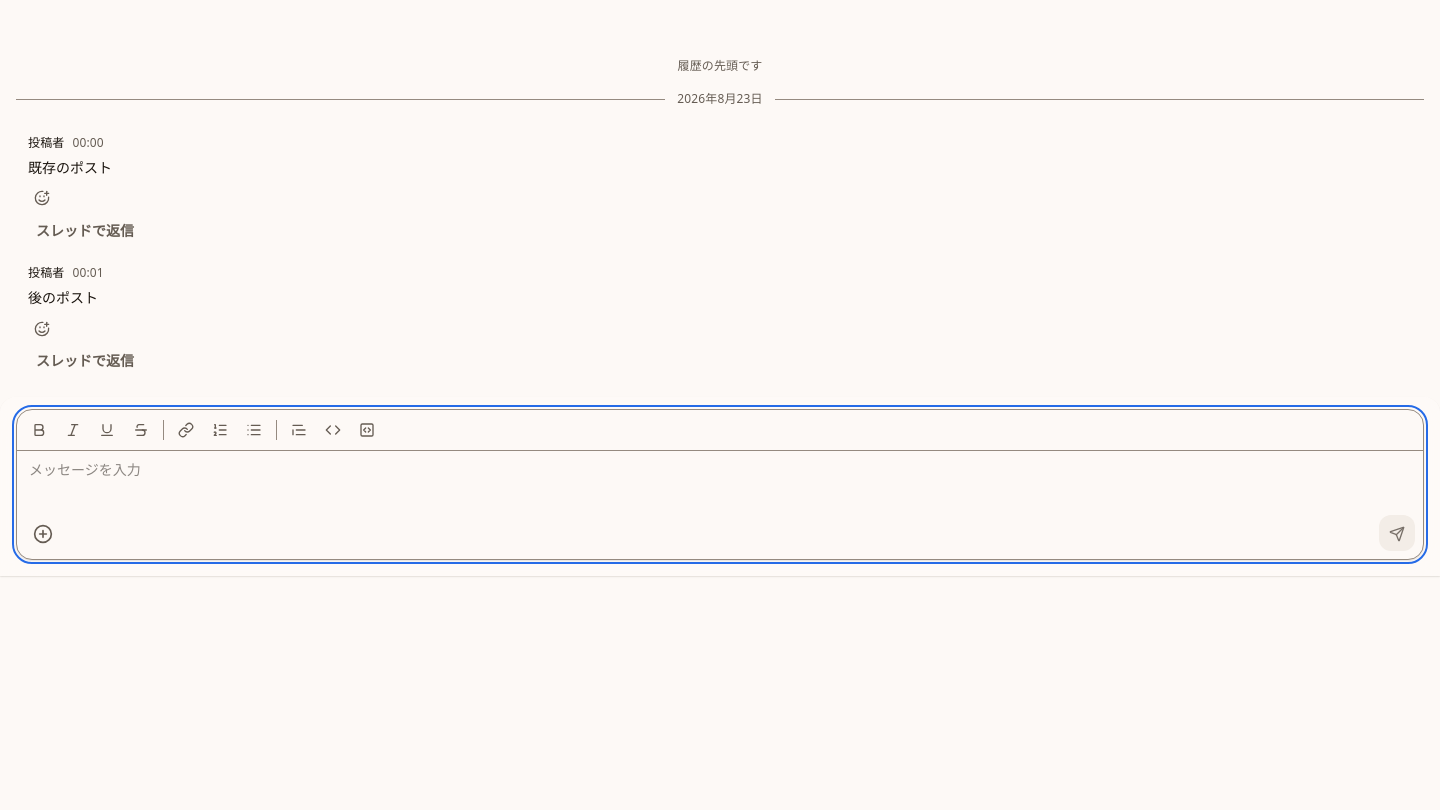
Test case: Timeline optimistic create › keeps the failed post in place with retry and discard
The image size is (1440, 810).
Expected: the text "既存のポスト" is shown, [28, 158, 112, 177]
In the text box with test id "composer-input": (720, 481) [17, 451, 1423, 510], type "拒否されるポスト"
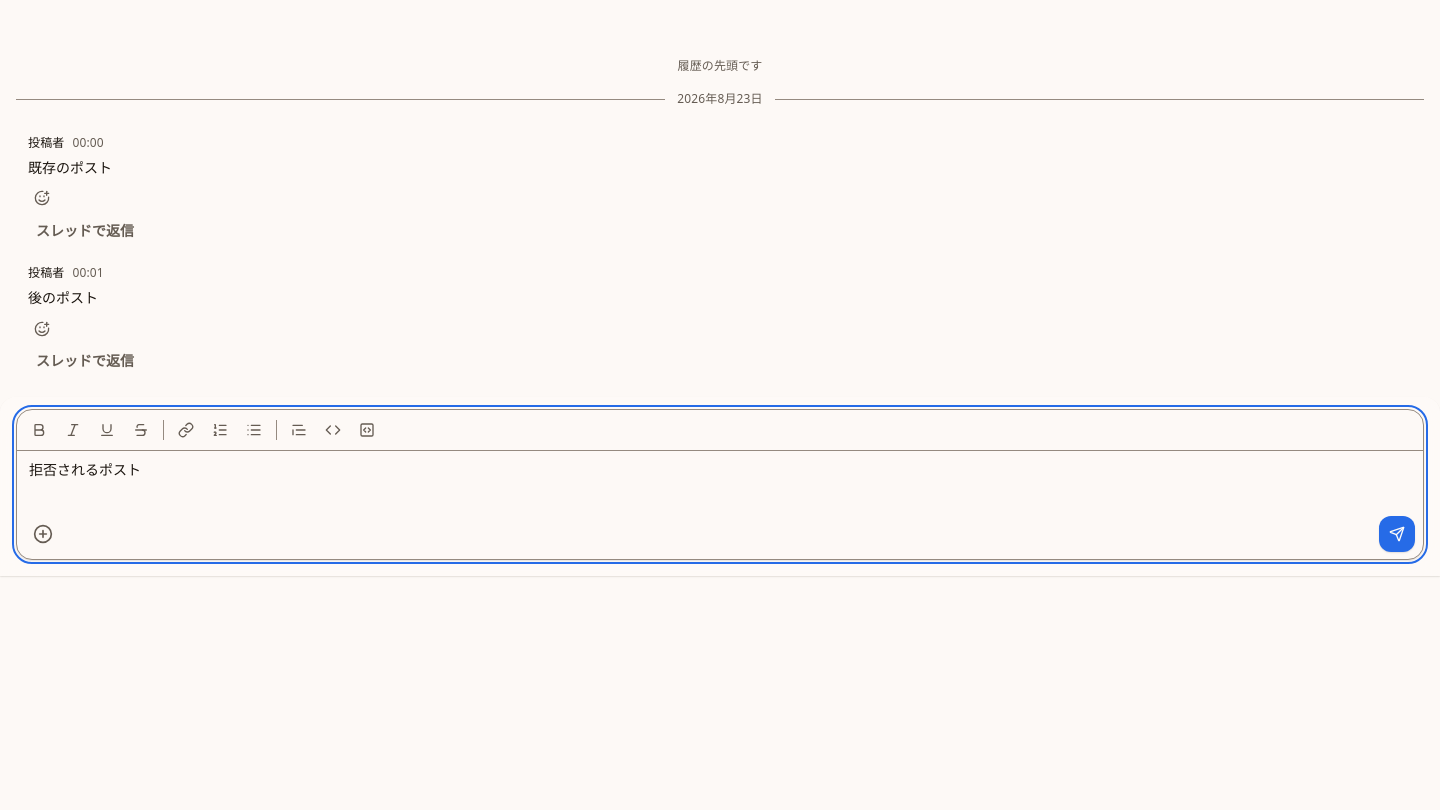
Submit the form with test id "composer", box [0, 397, 1439, 577]
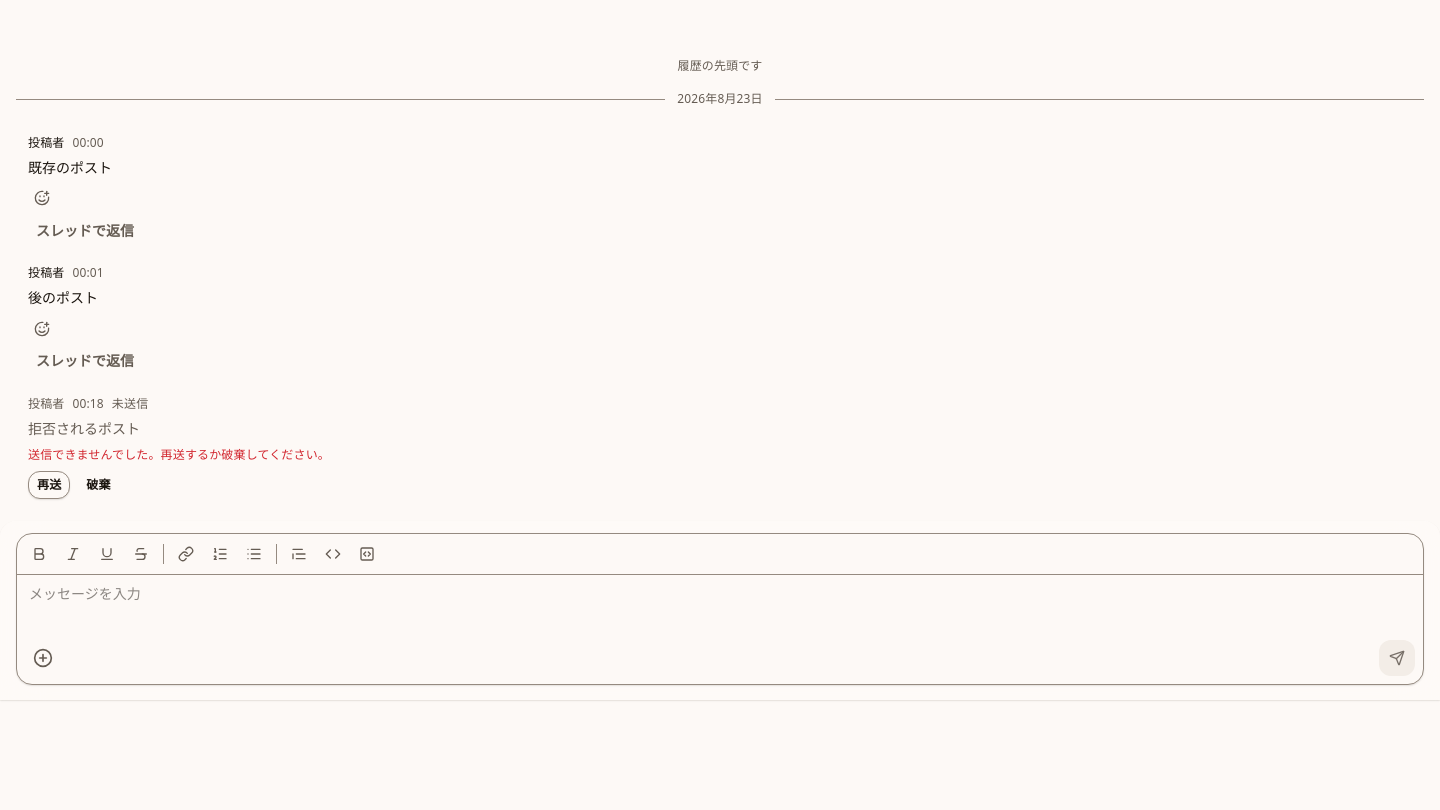
Result: the button "破棄" is shown
Result: the text "拒否されるポスト" is shown at [28, 419, 140, 438]
Result: the text box with test id "composer-input" is empty at [17, 575, 1423, 634]
Click the button "破棄": (98, 485) [78, 471, 119, 499]
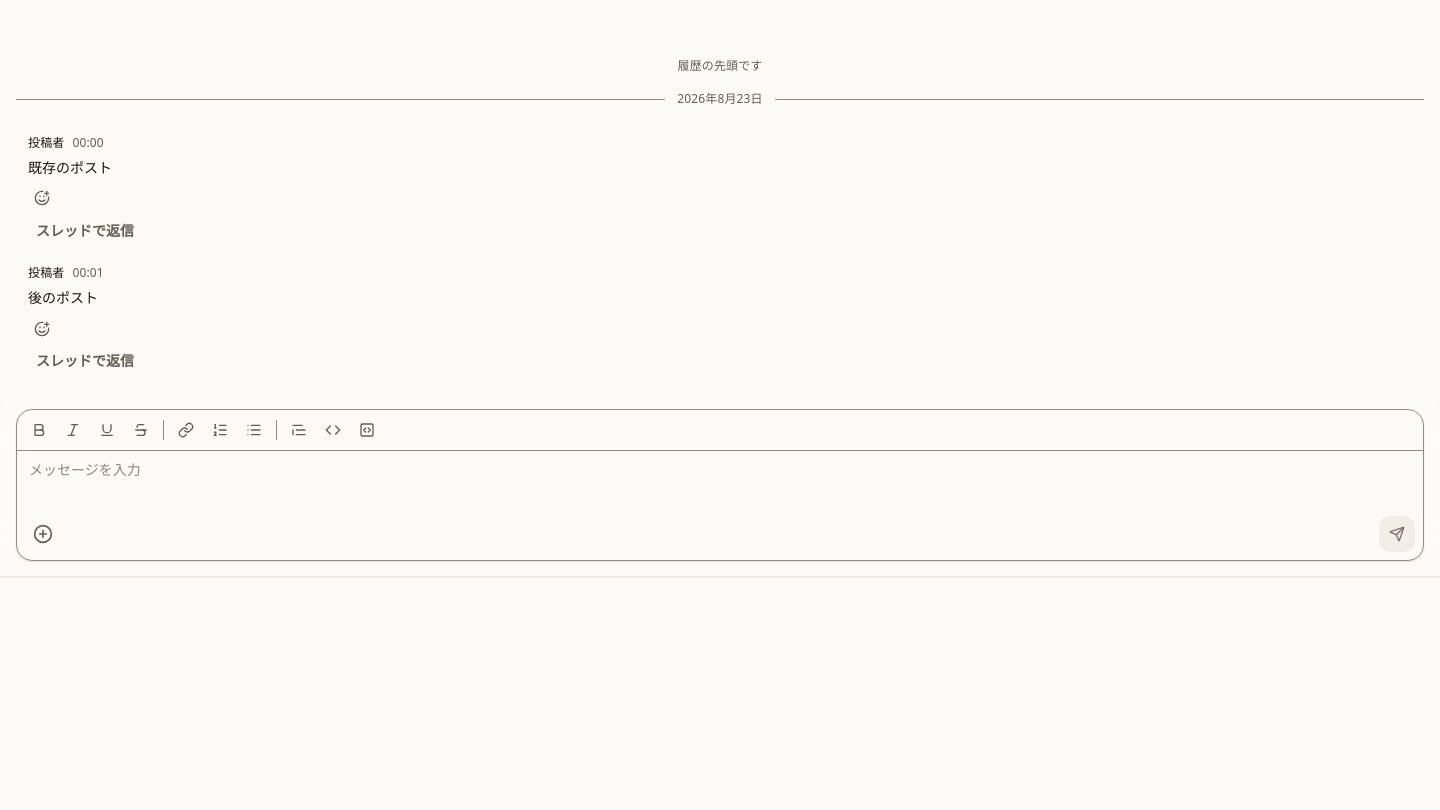
Result: the text "拒否されるポスト" is gone
